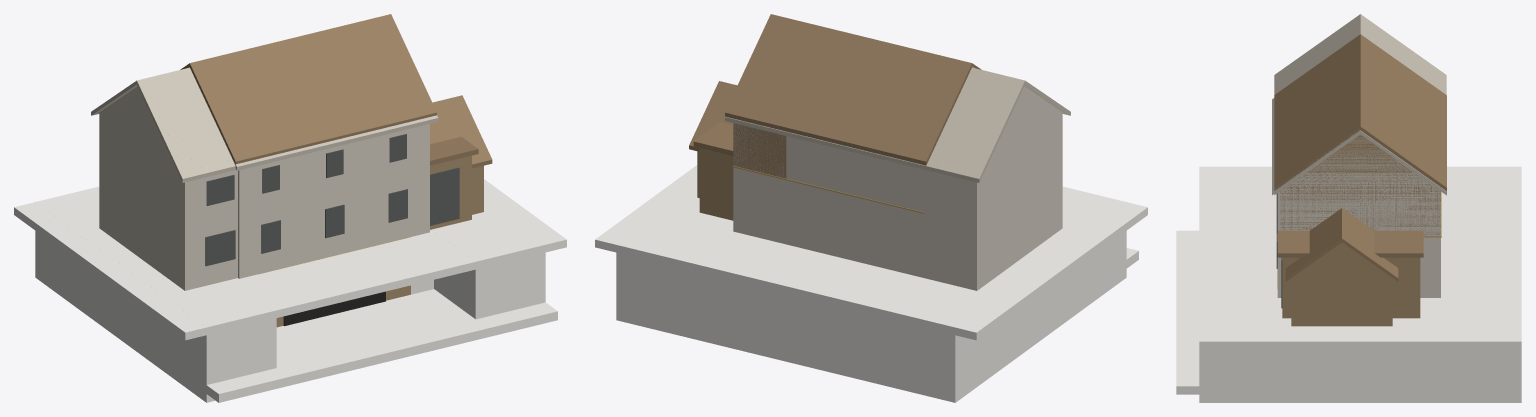
The model's file is permits.glb.
The picture shows the model from 3 angles, left to right: view 1: azimuth 30°, elevation 25°; view 2: azimuth 150°, elevation 25°; view 3: azimuth 270°, elevation 25°; orthographic projection. The views are drawn at different scales.
Parts seen in each view (by area): view 1: permit_kjeller_permit_ground, permit_pabygg_permit_new_roof, permit_garasje_permit_existing, permit_frittliggende_permit_existing, permit_garasje_permit_ground, permit_frittliggende_permit_ground, permit_pabygg_permit_ground, permit_frittliggende_permit_existing_roof, permit_tilbygg_permit_existing_roof, permit_garasje_permit_window, permit_tilbygg_permit_existing, permit_tilbygg_permit_window (+7 smaller); view 2: permit_frittliggende_permit_existing, permit_kjeller_permit_ground, permit_pabygg_permit_new_roof, permit_garasje_permit_ground, permit_tilbygg_permit_existing, permit_frittliggende_permit_ground, permit_frittliggende_permit_existing_roof, permit_pabygg_permit_existing, permit_tilbygg_permit_existing_roof, permit_pabygg_permit_new, permit_tilbygg_permit_new, permit_kjeller_permit_existing (+3 smaller); view 3: permit_kjeller_permit_ground, permit_pabygg_permit_new_roof, permit_garasje_permit_ground, permit_garasje_permit_existing, permit_pabygg_permit_new, permit_pabygg_permit_ground, permit_frittliggende_permit_ground, permit_frittliggende_permit_new, permit_kjeller_permit_existing, permit_frittliggende_permit_existing_roof, permit_frittliggende_permit_new_roof, permit_tilbygg_permit_new (+5 smaller).
Boxes of the visible parts, bbox=[...] form: permit_kjeller_permit_ground: bbox=[35, 186, 545, 402]; permit_pabygg_permit_new_roof: bbox=[180, 14, 436, 164]; permit_garasje_permit_existing: bbox=[238, 124, 429, 278]; permit_frittliggende_permit_existing: bbox=[99, 86, 237, 290]; permit_garasje_permit_ground: bbox=[35, 229, 557, 402]; permit_frittliggende_permit_ground: bbox=[14, 179, 566, 340]; permit_pabygg_permit_ground: bbox=[235, 231, 475, 310]; permit_frittliggende_permit_existing_roof: bbox=[91, 68, 235, 182]; permit_tilbygg_permit_existing_roof: bbox=[148, 67, 235, 176]; permit_garasje_permit_window: bbox=[261, 134, 407, 253]; permit_tilbygg_permit_existing: bbox=[195, 170, 237, 287]; permit_tilbygg_permit_window: bbox=[216, 167, 459, 261]; permit_frittliggende_permit_existing: bbox=[797, 86, 1062, 290]; permit_kjeller_permit_ground: bbox=[616, 186, 1126, 402]; permit_pabygg_permit_new_roof: bbox=[725, 14, 981, 165]; permit_garasje_permit_ground: bbox=[616, 227, 1138, 393]; permit_tilbygg_permit_existing: bbox=[786, 136, 966, 287]; permit_frittliggende_permit_ground: bbox=[595, 165, 1147, 340]; permit_frittliggende_permit_existing_roof: bbox=[926, 67, 1070, 182]; permit_pabygg_permit_existing: bbox=[733, 167, 786, 244]; permit_tilbygg_permit_existing_roof: bbox=[926, 68, 1010, 179]; permit_pabygg_permit_new: bbox=[733, 123, 786, 178]; permit_tilbygg_permit_new: bbox=[699, 148, 733, 220]; permit_kjeller_permit_existing: bbox=[733, 123, 785, 234]; permit_kjeller_permit_ground: bbox=[1199, 176, 1521, 402]; permit_pabygg_permit_new_roof: bbox=[1274, 34, 1446, 191]; permit_garasje_permit_ground: bbox=[1176, 208, 1521, 394]; permit_garasje_permit_existing: bbox=[1277, 135, 1440, 297]; permit_pabygg_permit_new: bbox=[1280, 134, 1440, 236]; permit_pabygg_permit_ground: bbox=[1199, 208, 1277, 299]; permit_frittliggende_permit_ground: bbox=[1199, 166, 1521, 348]; permit_frittliggende_permit_new: bbox=[1291, 242, 1392, 326]; permit_kjeller_permit_existing: bbox=[1280, 147, 1440, 297]; permit_frittliggende_permit_existing_roof: bbox=[1274, 14, 1446, 94]; permit_frittliggende_permit_new_roof: bbox=[1285, 208, 1398, 281]; permit_tilbygg_permit_new: bbox=[1282, 257, 1420, 318].
Bounding box in the file's own units: 18 × 11.73 × 15.
